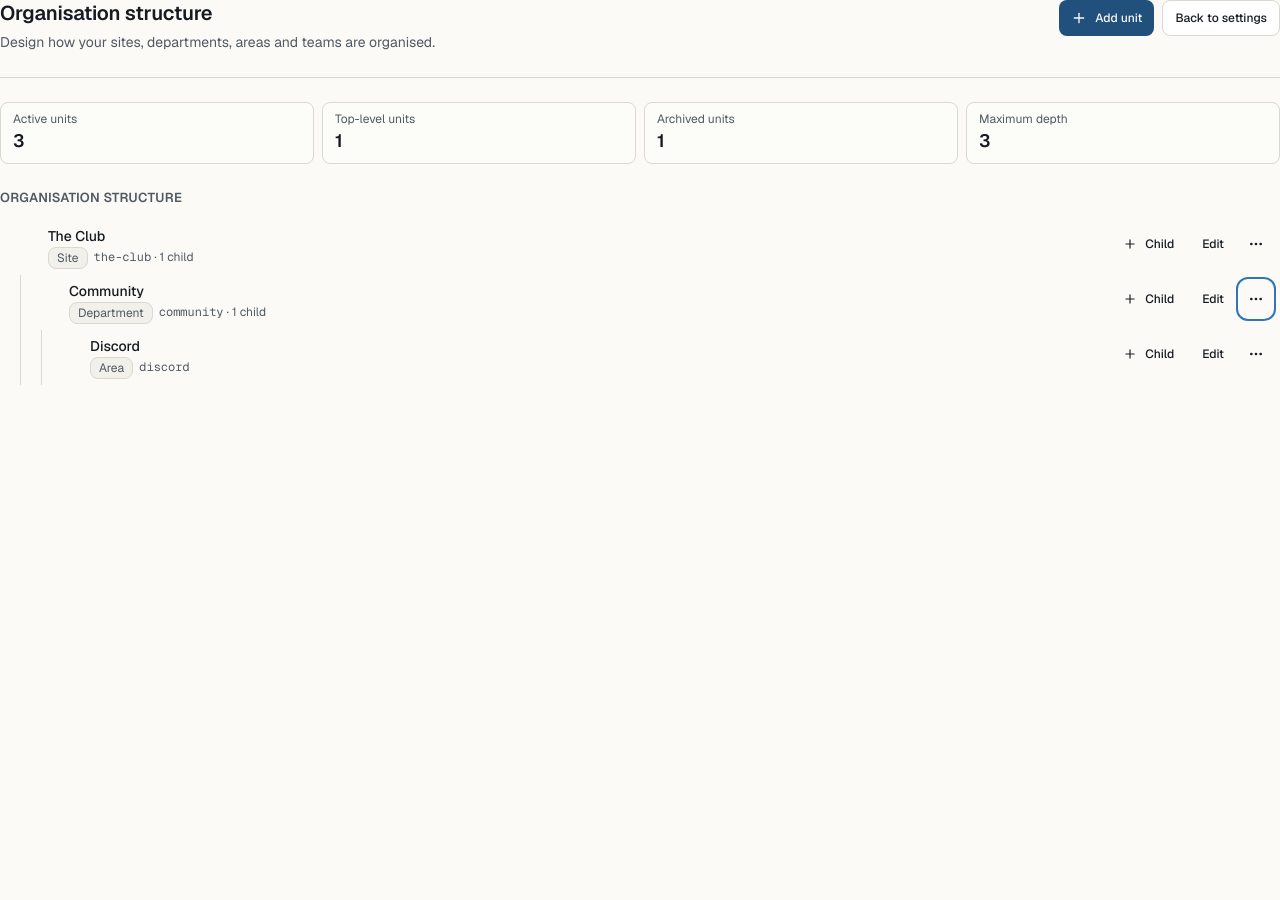
Test: StructureWorkspace › keeps Archive out of the primary row and exposes Move plus Archive in More
Check: the button "Move" is not shown
Press Enter in the button with test id "unit-more-menu-community", box 1240,280 -> 1272,316
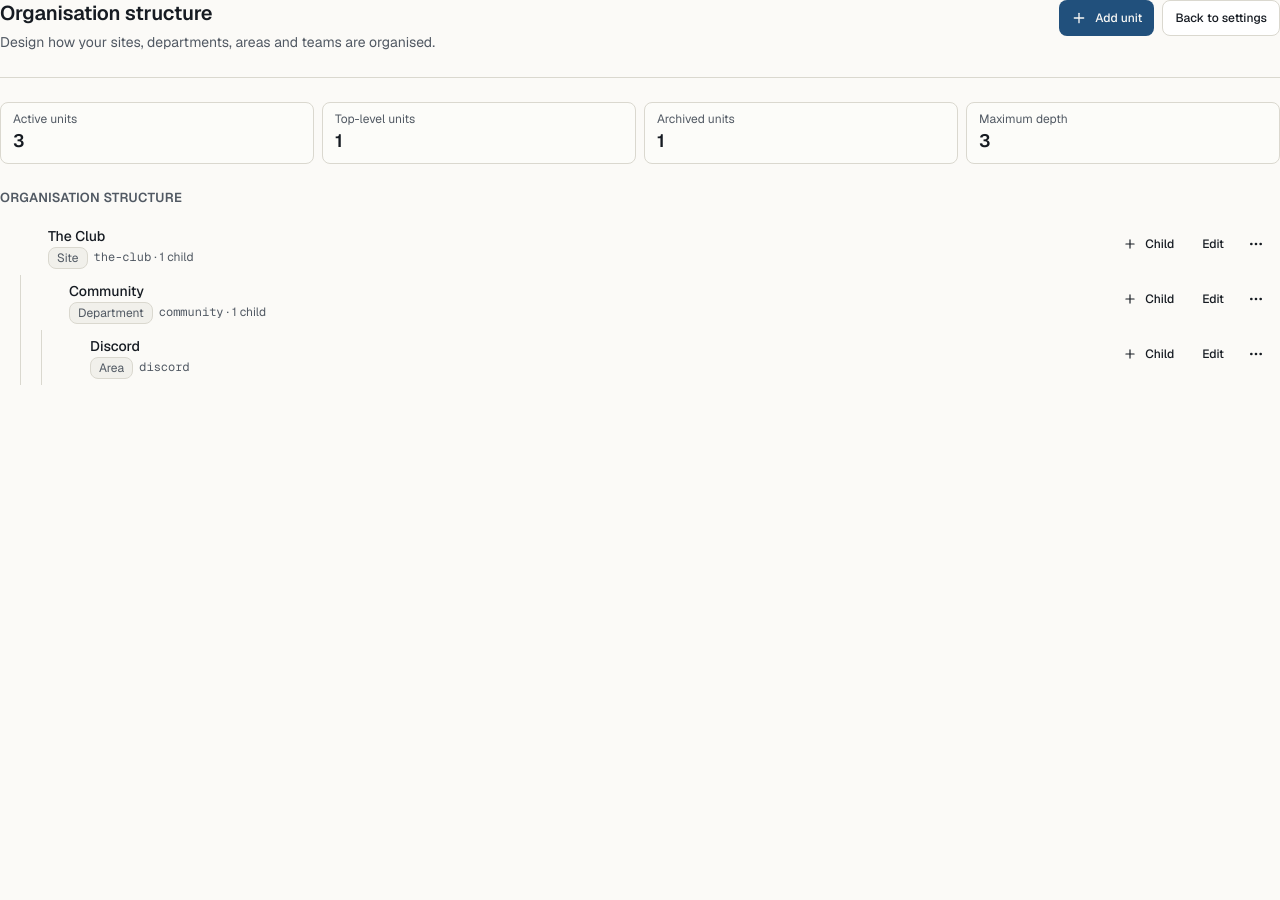
Click the button with test id "unit-more-menu-community".
click(1256, 298)  # box 1240,280 -> 1272,316
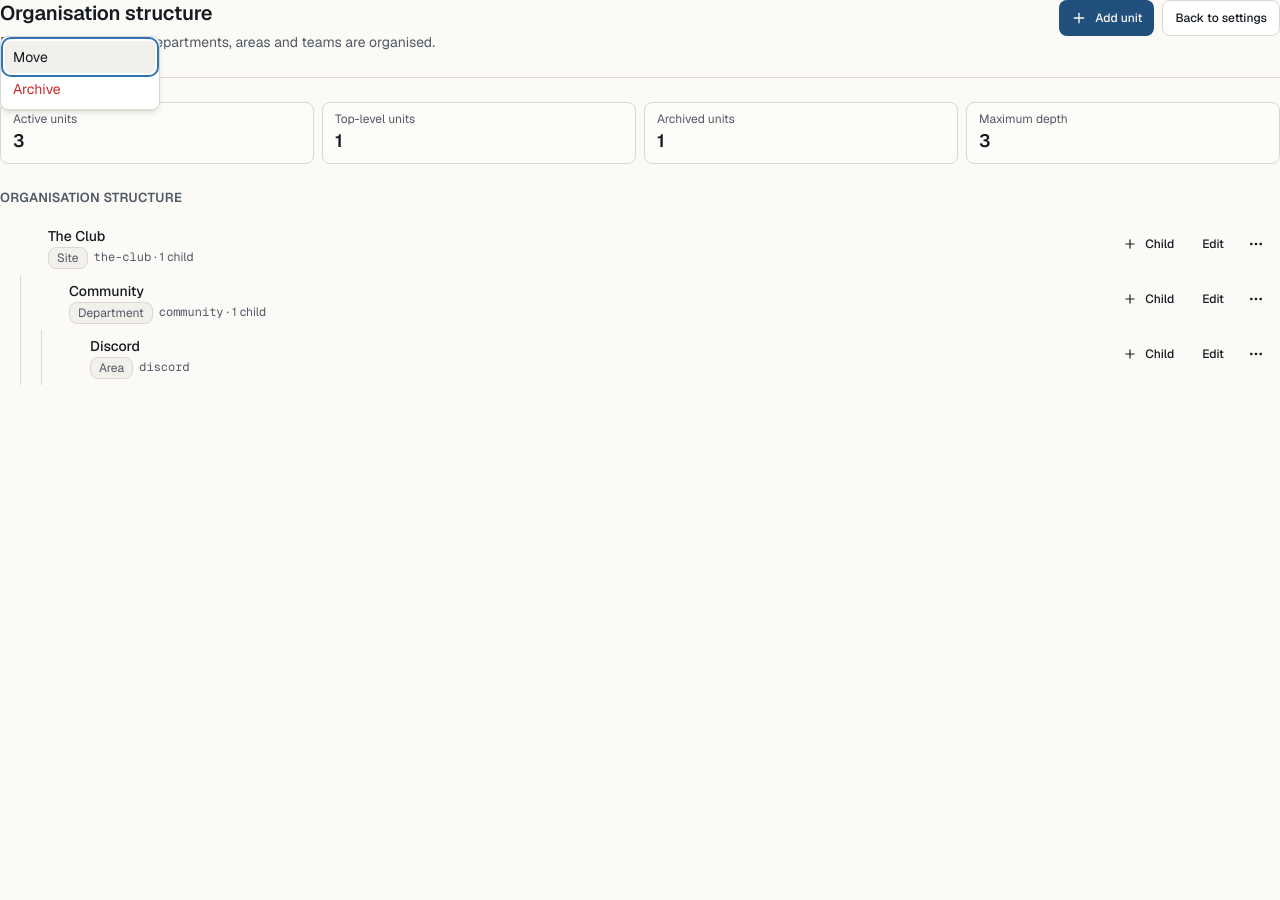
Check: the menu with test id "unit-more-content-community" is shown, box 0,36 -> 160,110
Check: the menu item "Move" is shown, box 5,41 -> 155,73
Check: the menu item "Archive" is shown
Click the menu item "Archive".
click(37, 89)  # box 13,80 -> 61,98
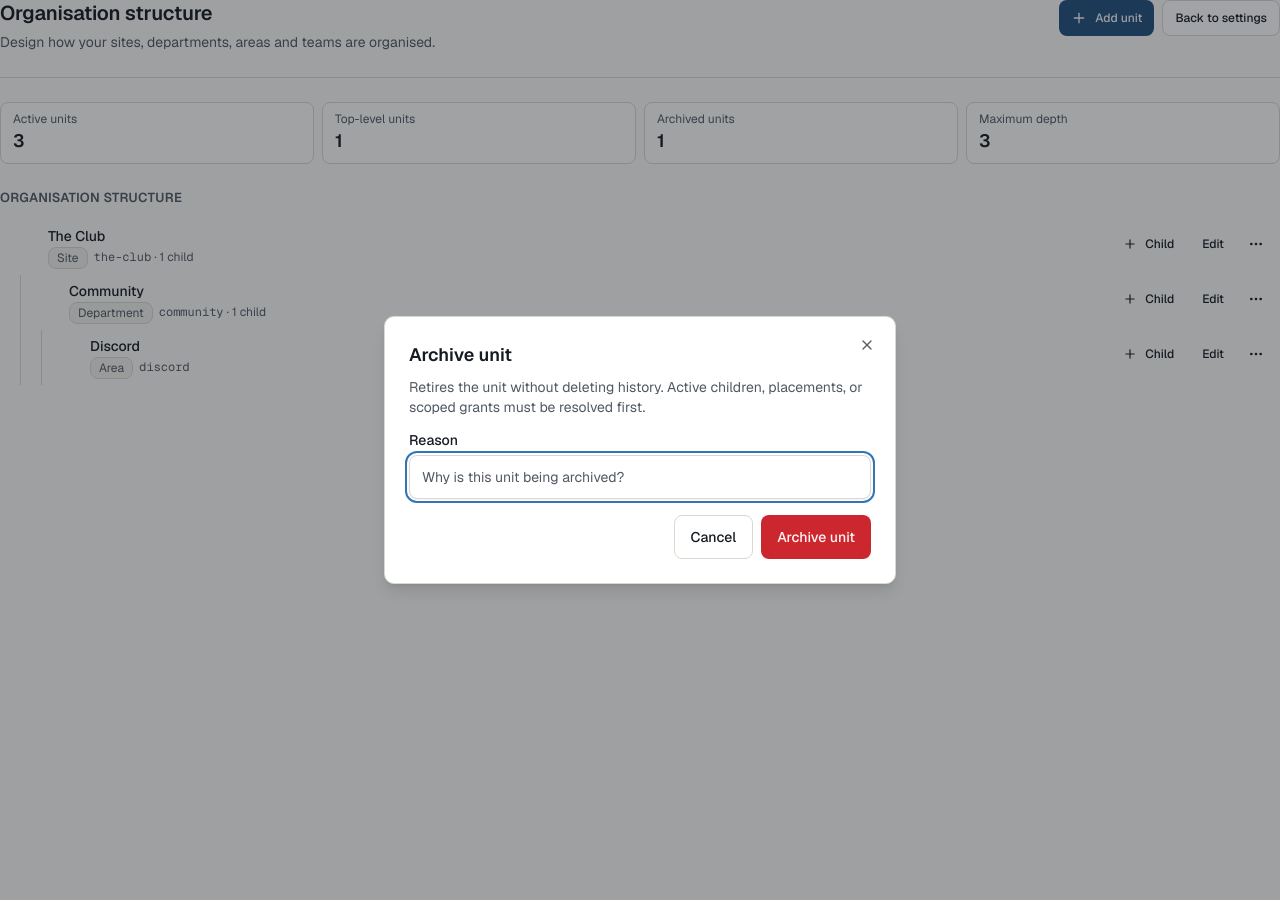
Check: the dialog with test id "unit-archive-dialog" is shown, box 384,316 -> 896,584
